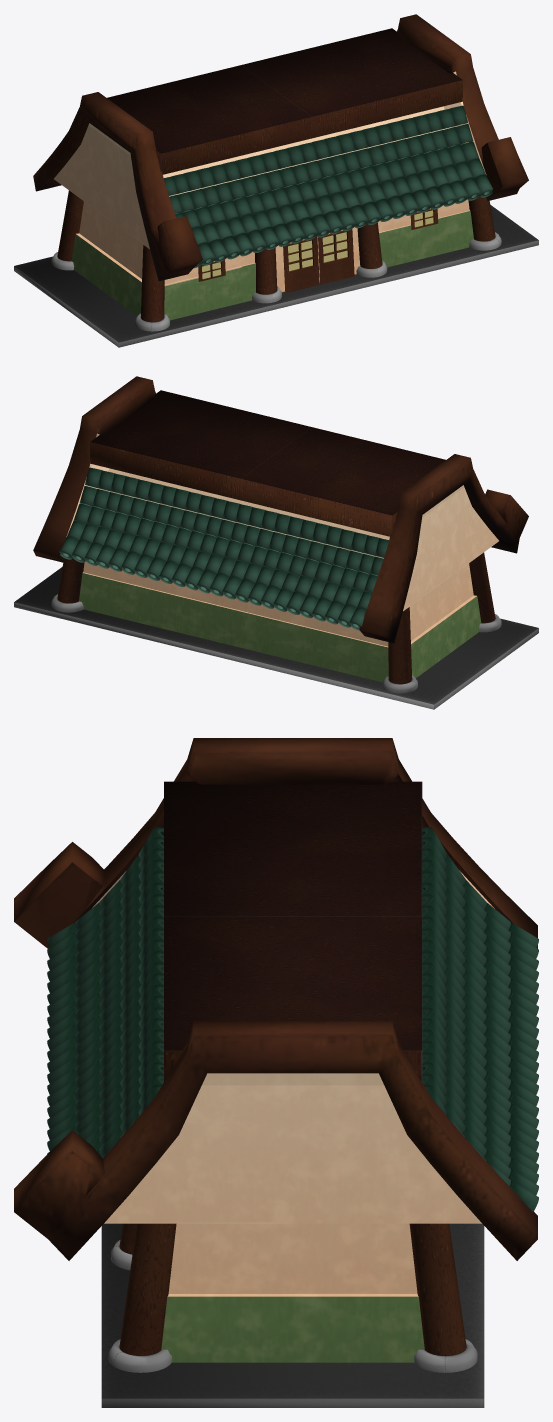
The model's file is Building2.fbx.
The picture shows the model from 3 angles, top to bottom: view 1: azimuth 30°, elevation 25°; view 2: azimuth 150°, elevation 25°; view 3: azimuth 270°, elevation 25°; orthographic projection. The views are drawn at different scales.
Visible parts, largest first — view 1: Roof and base, Roofing, Building, House.001, Cube.007, Doors and windows; view 2: Roof and base, Roofing, Building, House.001, Cube.007; view 3: Roof and base, Building, Roofing, House.001, Cube.007.
Boxes of the visible parts, x1,y1,x2,y2 form: Roof and base: [14, 28, 538, 347]; Roofing: [163, 105, 492, 268]; Building: [54, 71, 486, 320]; House.001: [33, 14, 528, 281]; Cube.007: [51, 190, 501, 331]; Doors and windows: [198, 208, 438, 293]; Roof and base: [14, 390, 538, 709]; Roofing: [59, 467, 389, 630]; Building: [66, 433, 498, 682]; House.001: [33, 376, 528, 643]; Cube.007: [51, 552, 501, 693]; Roof and base: [101, 781, 484, 1407]; Building: [92, 870, 494, 1362]; Roofing: [47, 827, 538, 1211]; House.001: [14, 738, 537, 1260]; Cube.007: [108, 1223, 477, 1372].
Size of the model in its own units: 2184 by 910 by 1296.
9 materials, 9 textured.
